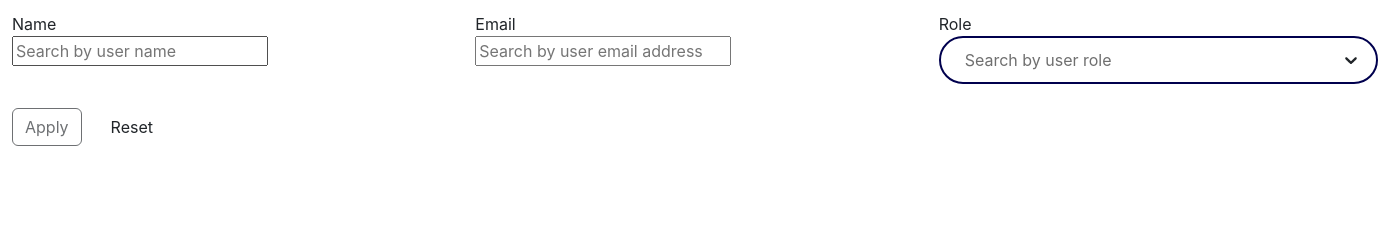
Test: UsersListFiltersForm › should render form with all inputs and buttons
This screenshot has width=1390, height=252.
Expected: the field labelled "Name" is shown, [12,36,268,66]
Expected: the field labelled "Email" is shown, [475,36,731,66]
State filter and all it's options.
Click the dropdown labelled "Role": (967, 60) [965,48,969,72]
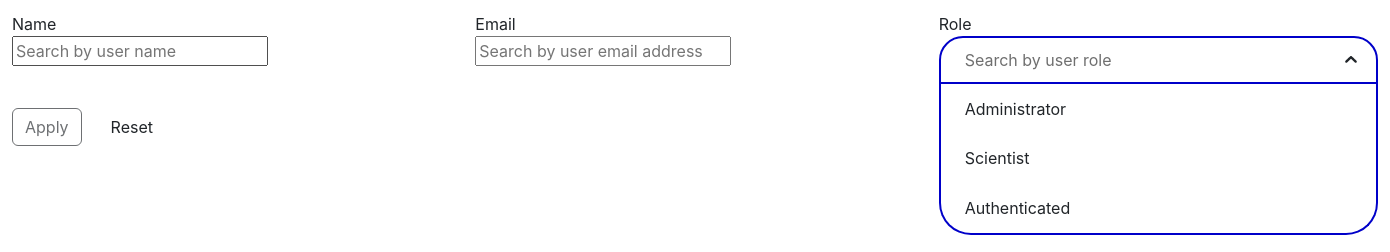
Result: the option "Administrator" is shown at [965,99,1066,119]
Result: the option "Scientist" is shown at [965,148,1030,168]
Result: the option "Authenticated" is shown at [965,198,1070,218]
